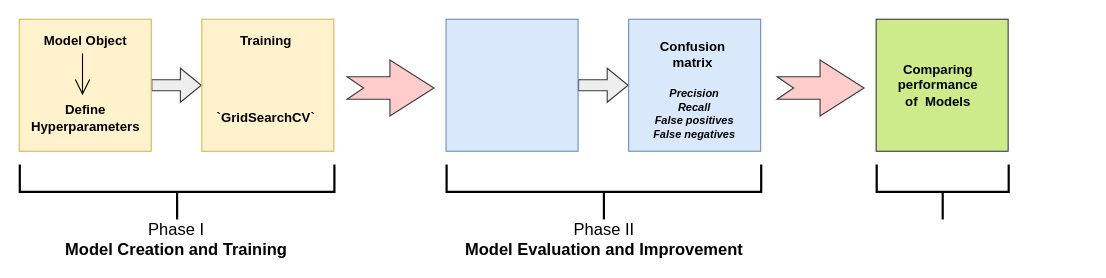
Image size: 1106x278. Some labels were removed from this diagram. The shapes that lost their labels are listed below. From the top down, each one's centre as x and y in pixels, then its label:
At [511,84]: "Accuracy score (Test set)".
At [942,191]: "Phase III Finding Best Classification Model".
